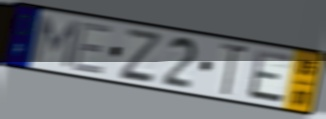2: (161, 36, 200, 91)
E: (247, 47, 294, 107), (69, 20, 115, 78)
M: (29, 14, 81, 71)
T: (218, 41, 250, 98)
Z: (118, 26, 162, 84)
